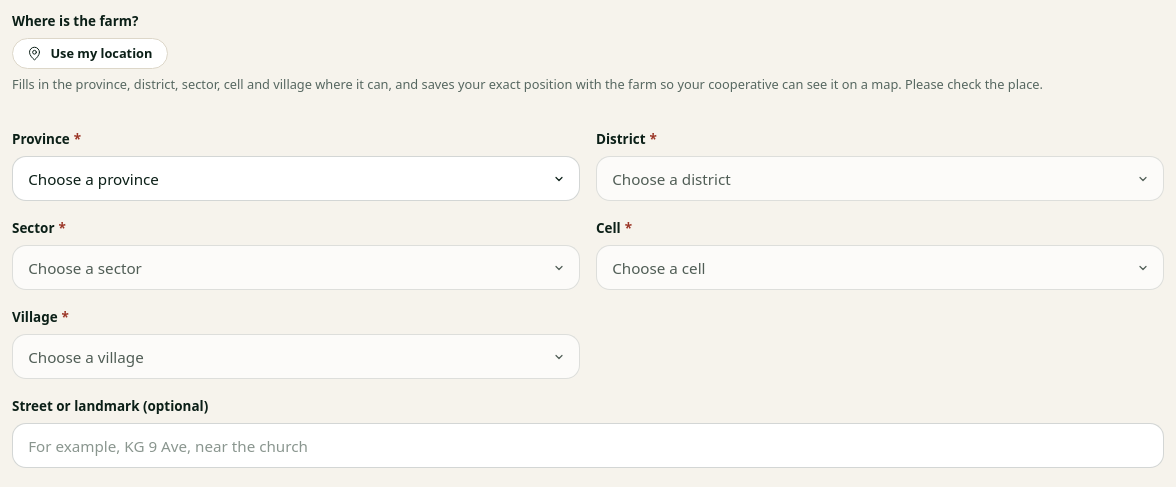
Test: Use my location › says what happened when the person does not allow it
The image size is (1176, 487).
Click the button "Use my location": click(90, 53) [12,38,168,69]
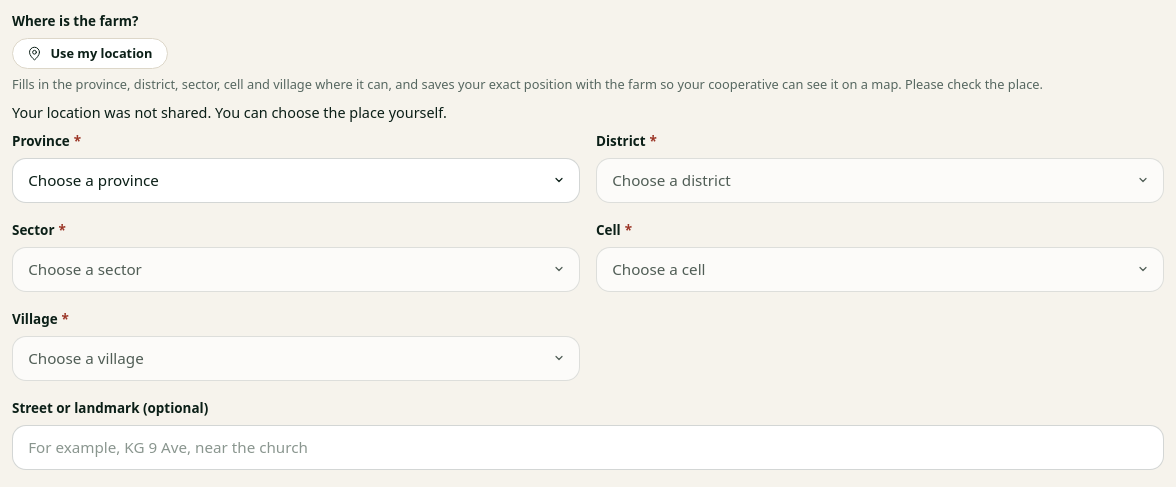
Result: the message reads "Your location was not shared. You can choose the place yourself." at [12,103,447,122]
